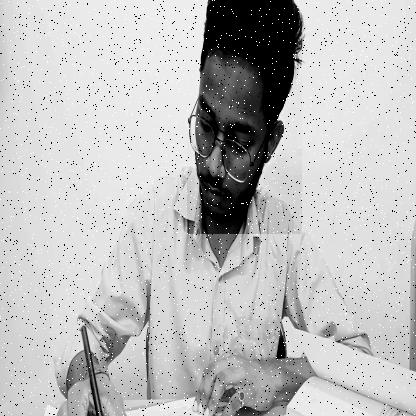Distracted: (187, 0, 302, 234)
